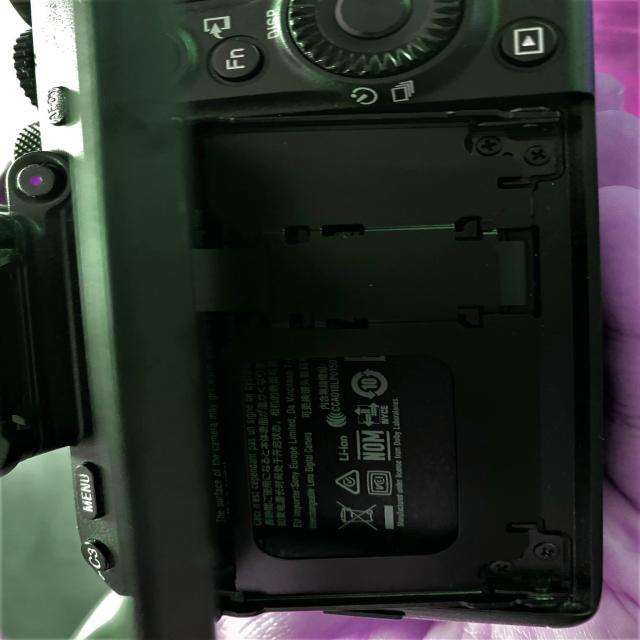PhillipsScrewHead: (474, 135, 504, 156), (524, 144, 552, 166), (532, 542, 560, 562), (488, 560, 514, 576)
